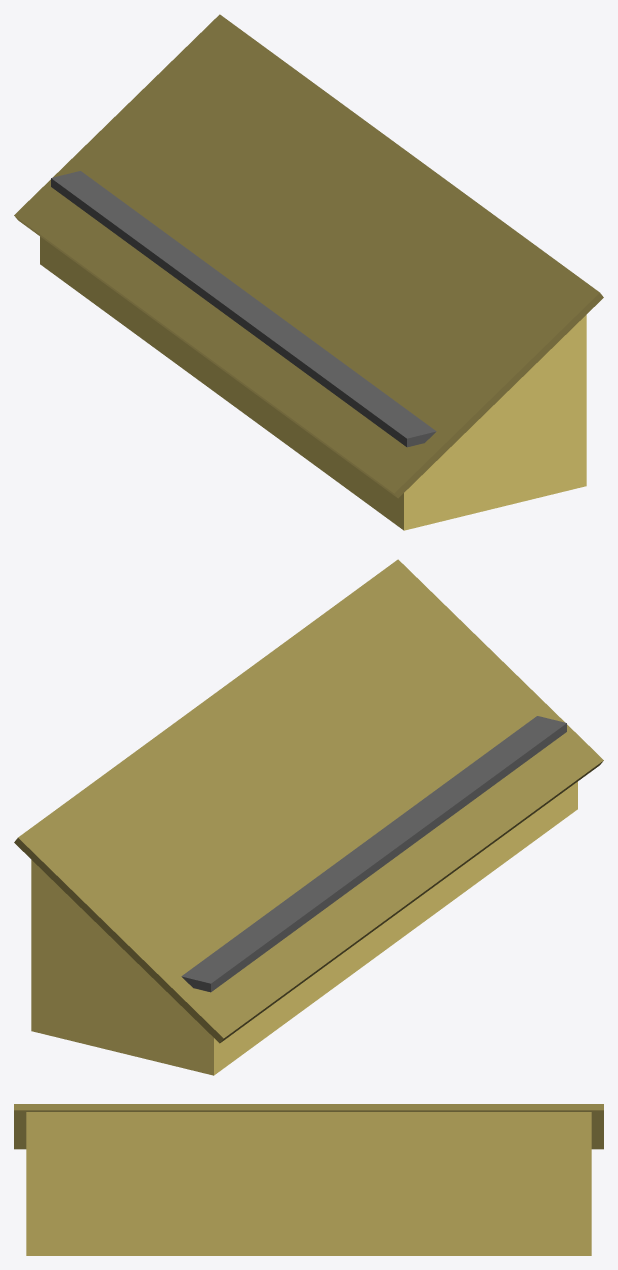
The model's file is result.glb.
The picture shows the model from 3 angles, top to bottom: view 1: azimuth 30°, elevation 25°; view 2: azimuth 150°, elevation 25°; view 3: azimuth 270°, elevation 25°; orthographic projection. The views are drawn at different scales.
Parts seen in each view (by area): view 1: babadb9c-4c9f-40ee-b770-9719a651810e__undefined, b2f0d8e0-ff6b-4bd6-959f-6e6219b5736c__undefined, f4d47db3-59f2-4b88-b7cd-2af615eef31e__Box; view 2: babadb9c-4c9f-40ee-b770-9719a651810e__undefined, b2f0d8e0-ff6b-4bd6-959f-6e6219b5736c__undefined, f4d47db3-59f2-4b88-b7cd-2af615eef31e__Box; view 3: b2f0d8e0-ff6b-4bd6-959f-6e6219b5736c__undefined, babadb9c-4c9f-40ee-b770-9719a651810e__undefined.
Part boxes in pixels (bbox=[...]): babadb9c-4c9f-40ee-b770-9719a651810e__undefined: bbox=[14, 14, 603, 498]; b2f0d8e0-ff6b-4bd6-959f-6e6219b5736c__undefined: bbox=[40, 236, 586, 530]; f4d47db3-59f2-4b88-b7cd-2af615eef31e__Box: bbox=[51, 171, 436, 447]; babadb9c-4c9f-40ee-b770-9719a651810e__undefined: bbox=[14, 559, 603, 1043]; b2f0d8e0-ff6b-4bd6-959f-6e6219b5736c__undefined: bbox=[31, 781, 577, 1075]; f4d47db3-59f2-4b88-b7cd-2af615eef31e__Box: bbox=[181, 716, 566, 992]; b2f0d8e0-ff6b-4bd6-959f-6e6219b5736c__undefined: bbox=[26, 1112, 591, 1255]; babadb9c-4c9f-40ee-b770-9719a651810e__undefined: bbox=[14, 1104, 603, 1149].
Size of the model in its own units: 754 by 680 by 2366.
